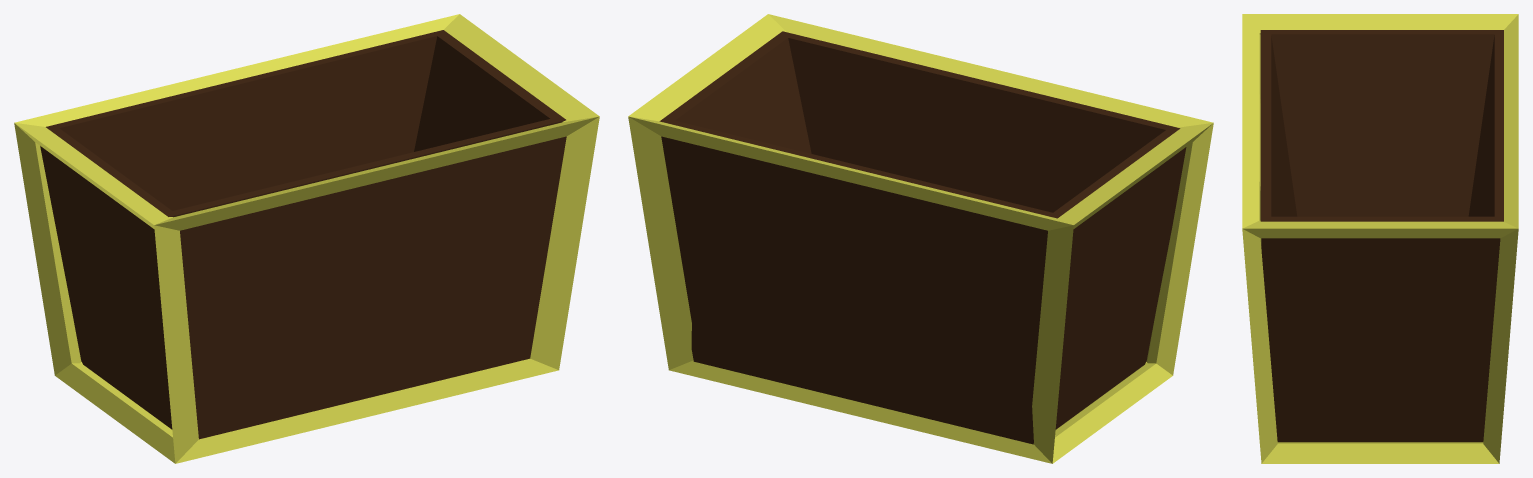
File: cofre2.fbx
3 views of the same model, side by side, from view 1: azimuth 30°, elevation 25°; view 2: azimuth 150°, elevation 25°; view 3: azimuth 270°, elevation 25° (orthographic).
Parts seen in each view (by area): view 1: CofreInferior; view 2: CofreInferior; view 3: CofreInferior.
Boxes of the visible parts, box(x1,y1,x2,y2) form: CofreInferior: box(14, 14, 599, 463); CofreInferior: box(628, 14, 1213, 463); CofreInferior: box(1242, 14, 1518, 463).
Size of the model in its own units: 1.24 by 0.6758 by 0.6768.
